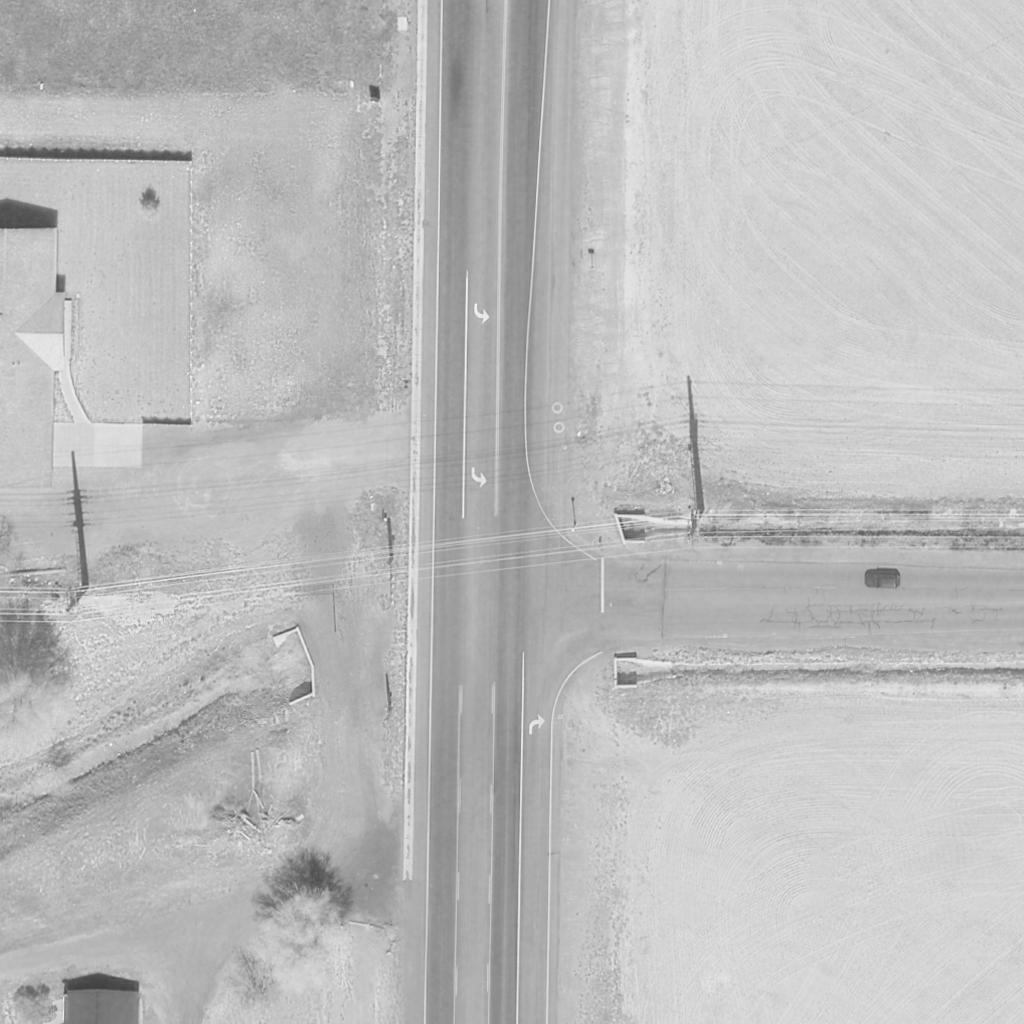vehicle: (863, 571, 901, 589)
